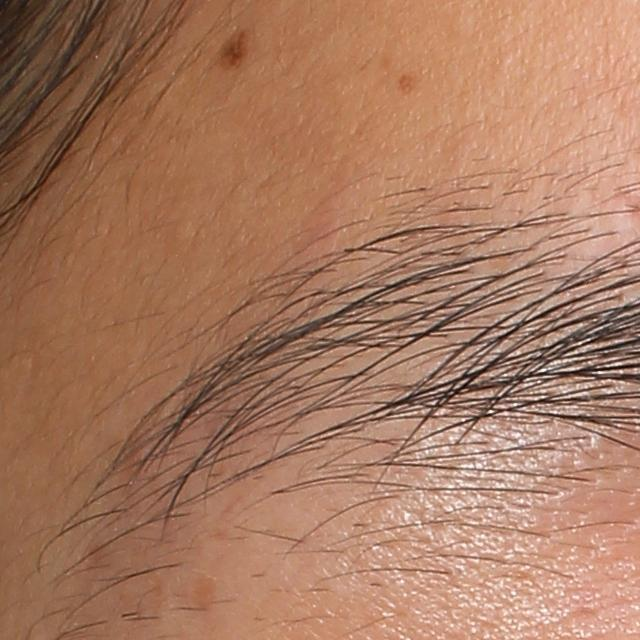nevus: (209, 27, 249, 72), (396, 71, 417, 96)
